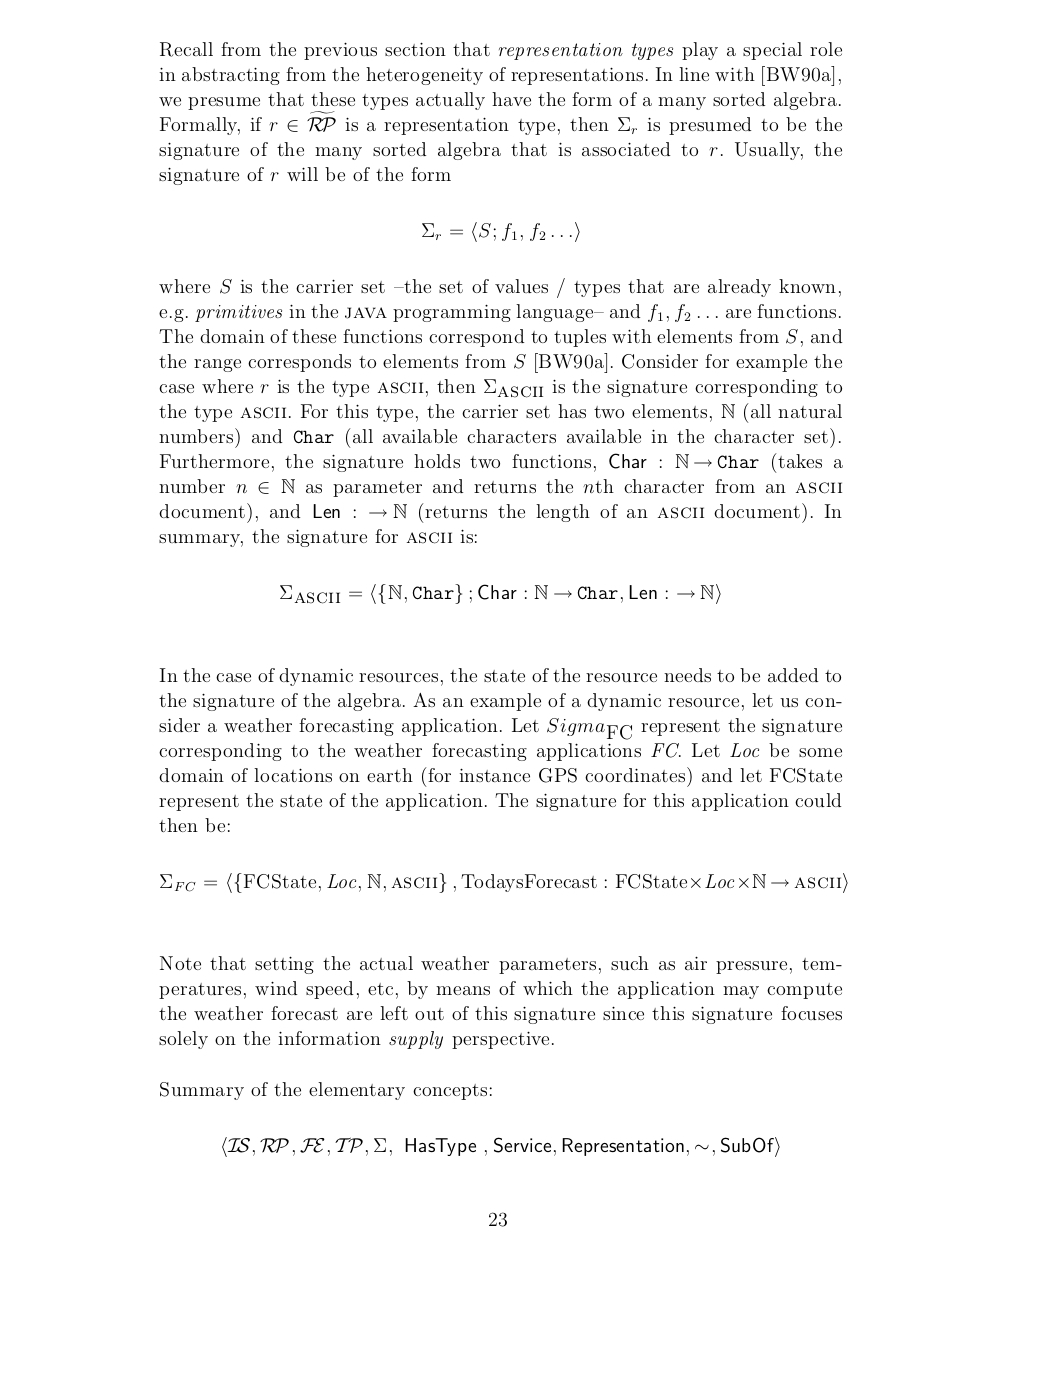formula: (160, 871, 847, 893), (222, 1136, 779, 1157), (280, 583, 720, 604), (422, 221, 580, 242)
